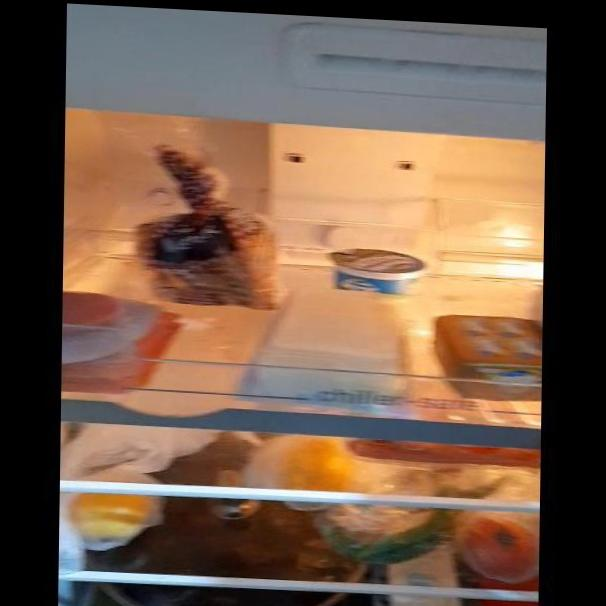bread: (139, 204, 280, 306)
butter: (433, 315, 544, 404)
cheese: (247, 289, 402, 401)
green chilies: (318, 503, 453, 568)
lemon: (271, 433, 362, 512), (68, 485, 161, 556)
salami: (59, 284, 154, 385)
tomato: (456, 511, 544, 588)
yoghurt: (332, 244, 426, 297)
